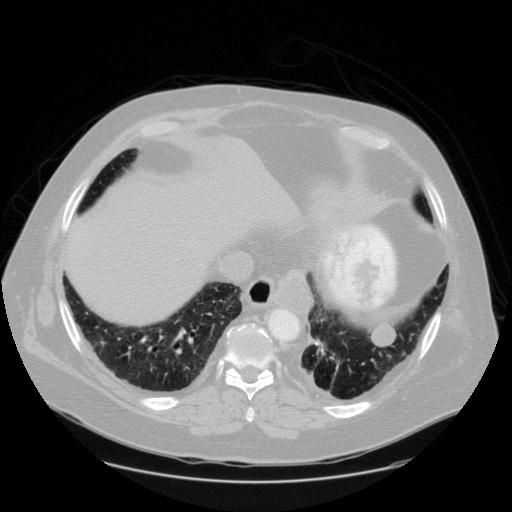nodule: (370, 323, 397, 350)
